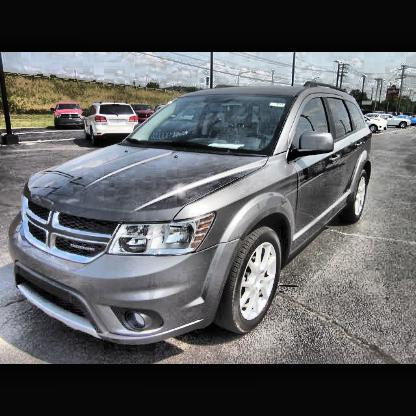Dodge Journey SUV 2012: (9, 83, 374, 343)
